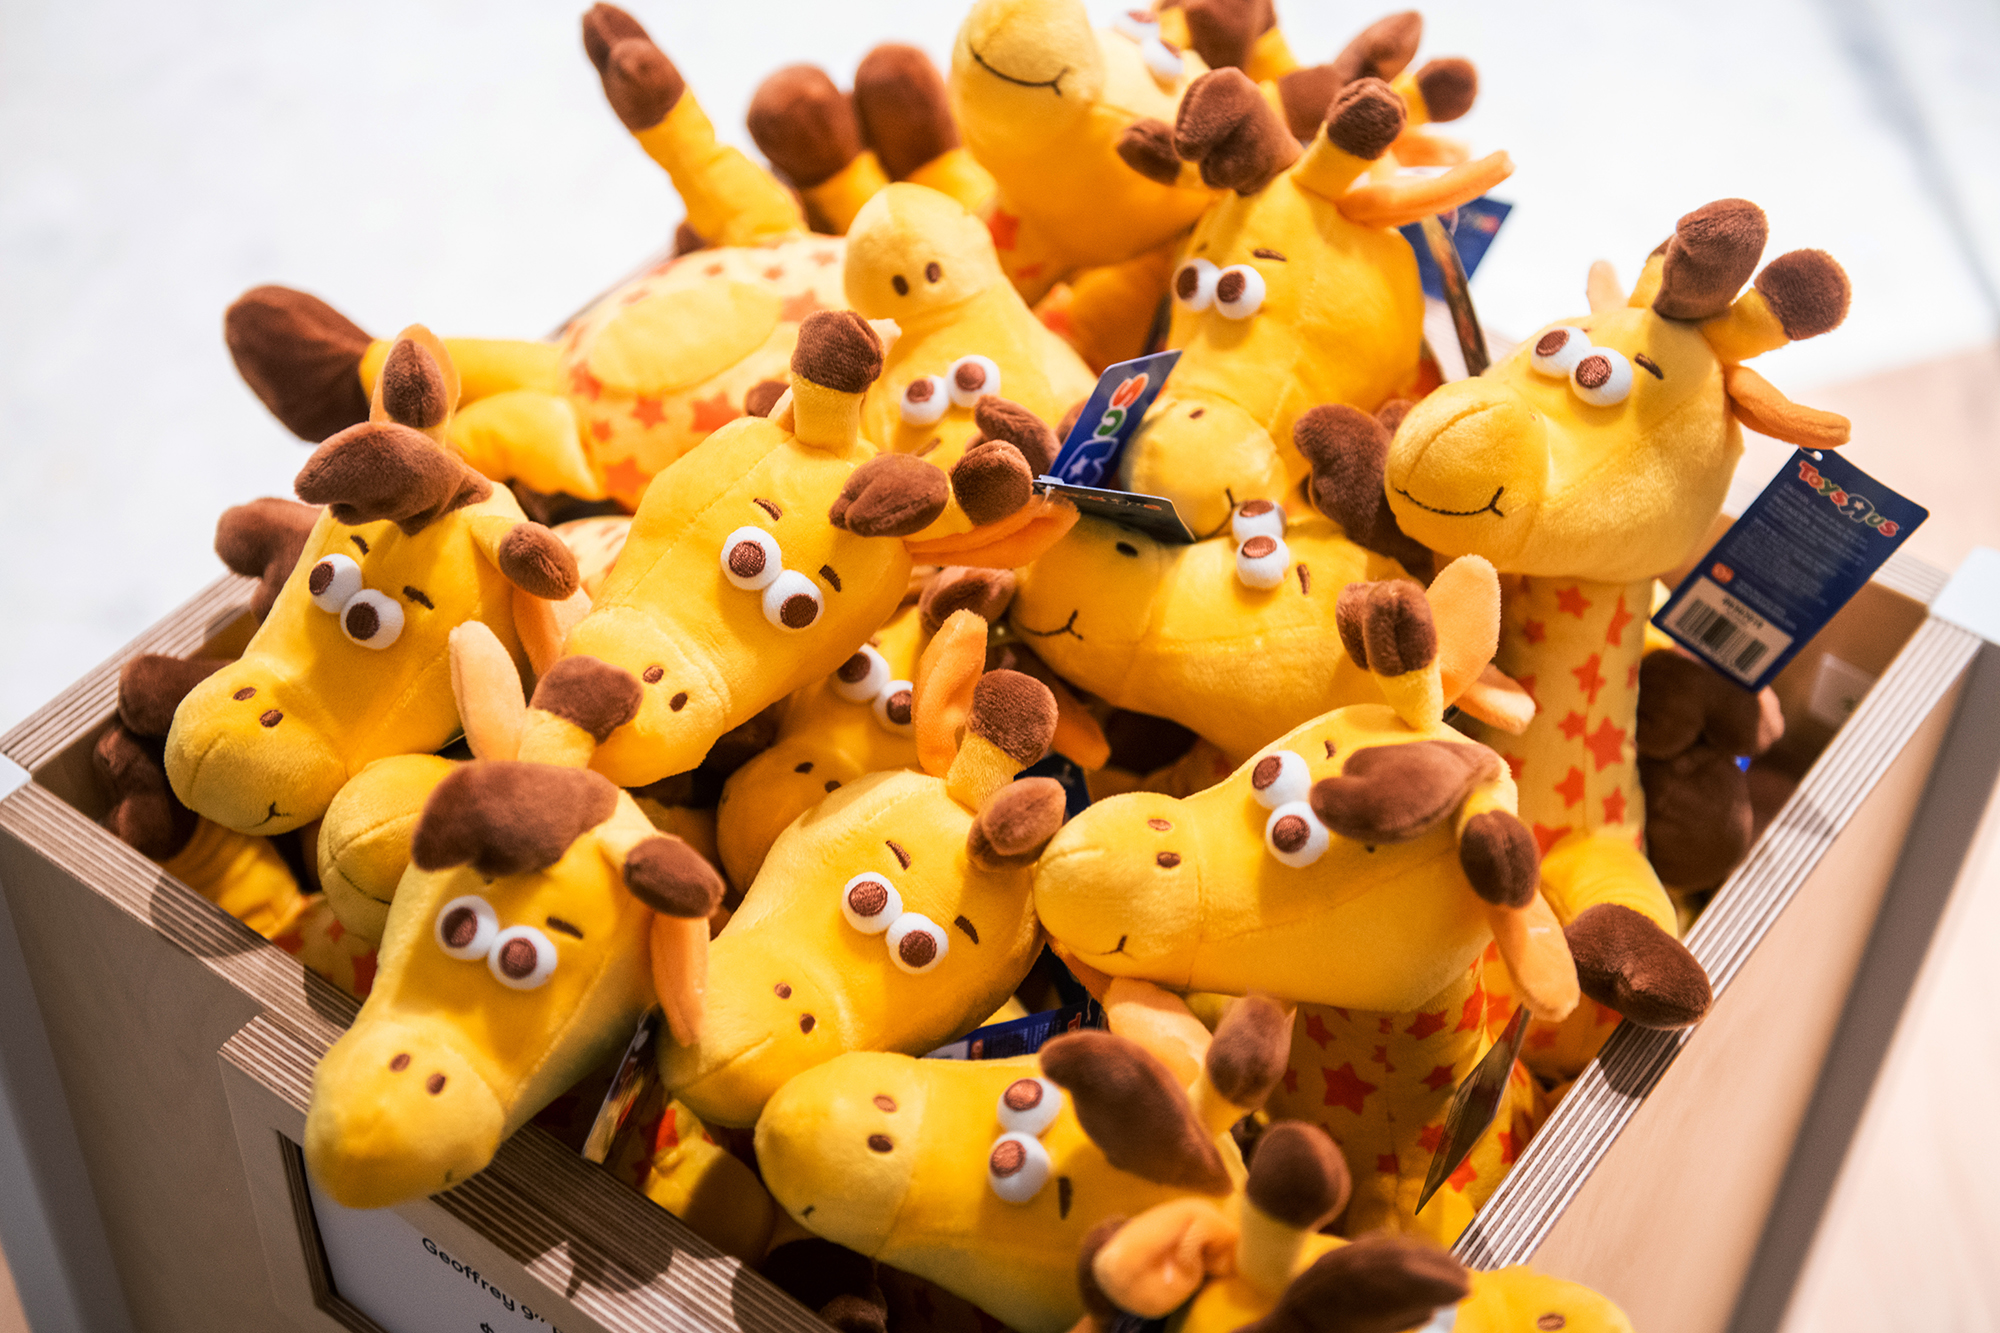toy: (538, 382, 1001, 848)
